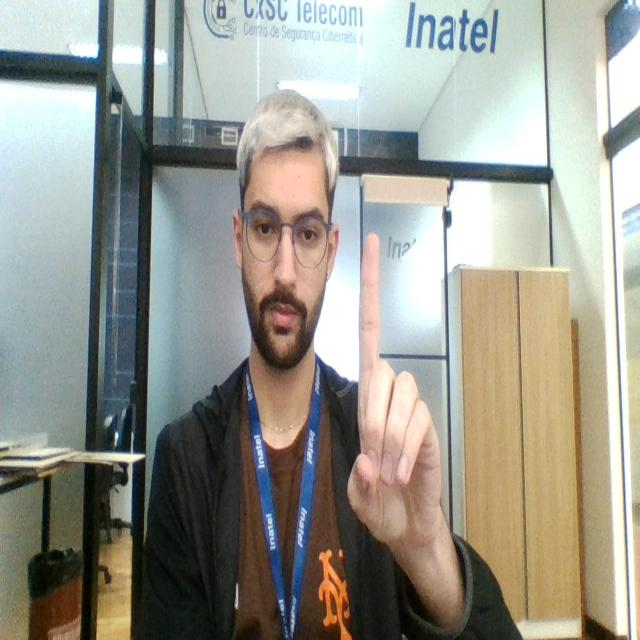D2: (347, 229, 444, 555)
